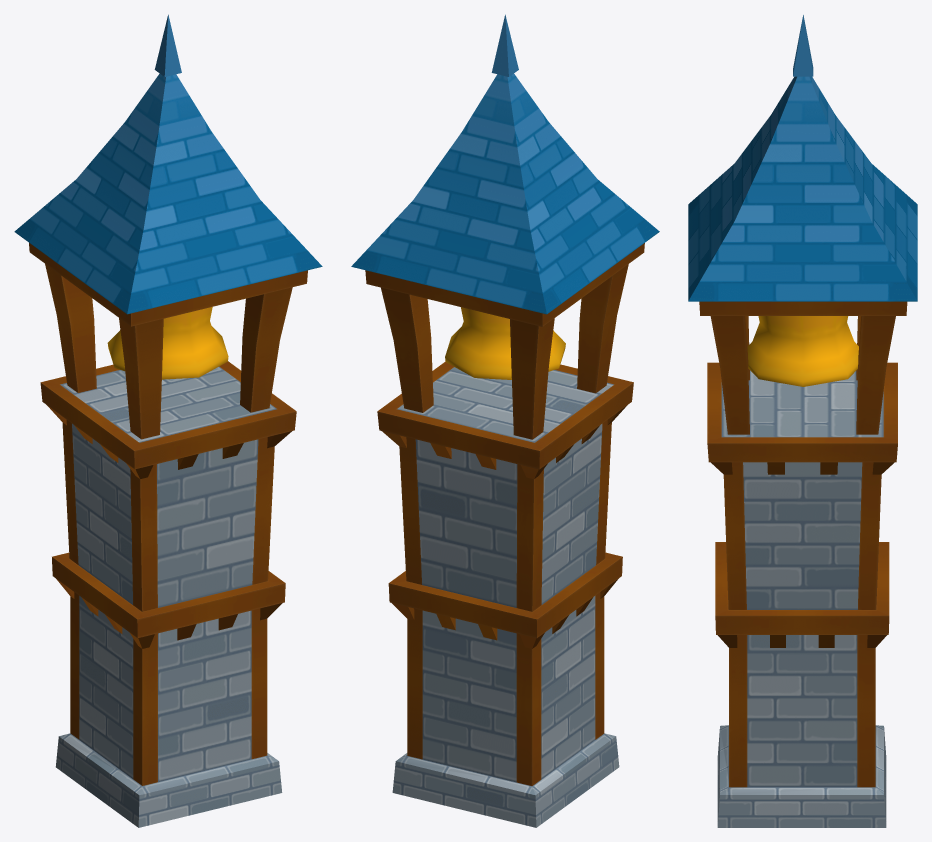
File: HOS0110026.fbx
3 renders of one model, left to right at view 1: azimuth 30°, elevation 25°; view 2: azimuth 150°, elevation 25°; view 3: azimuth 270°, elevation 25°, orthographic.
Parts seen in each view (by area): view 1: smHOS0110026; view 2: smHOS0110026; view 3: smHOS0110026.
Boxes of the visible parts, x1,y1,x2,y2 form: smHOS0110026: (14,14,322,827); smHOS0110026: (351,14,659,827); smHOS0110026: (688,15,917,827).
Size of the model in its own units: 243 by 909 by 243.
Materials: 1 (1 with a texture image).
